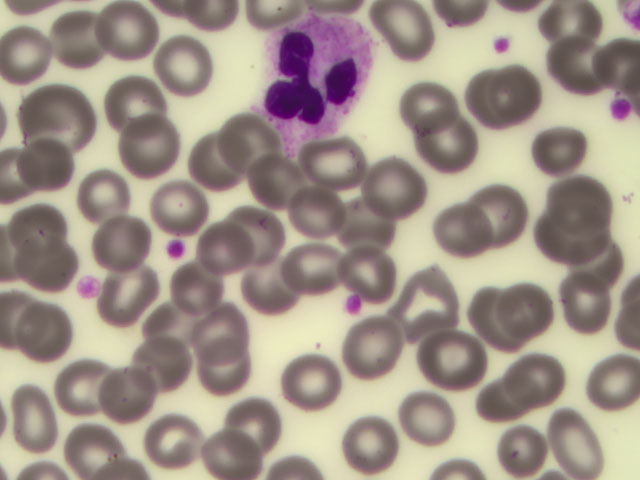Platelets: (606, 94, 630, 123), (72, 276, 101, 300), (163, 240, 192, 263), (489, 35, 515, 52), (342, 294, 366, 310)
RBC: (1, 25, 59, 84), (48, 14, 106, 73), (153, 34, 211, 93), (106, 66, 164, 125), (115, 122, 173, 181), (16, 136, 74, 195), (28, 87, 86, 146), (70, 160, 128, 219), (7, 186, 65, 245), (18, 227, 76, 286), (94, 214, 152, 273), (109, 265, 167, 324), (147, 179, 205, 238), (182, 135, 240, 194), (212, 112, 270, 171), (247, 150, 305, 209), (281, 177, 339, 236), (304, 129, 362, 188), (361, 150, 419, 209), (337, 193, 395, 252), (345, 233, 403, 292), (280, 237, 338, 296), (249, 258, 307, 317), (230, 206, 288, 265), (197, 220, 255, 279), (173, 271, 231, 330), (152, 294, 210, 353), (193, 296, 251, 355), (196, 351, 254, 410), (137, 337, 195, 396), (102, 371, 160, 430), (63, 361, 121, 420), (4, 391, 62, 450), (66, 418, 124, 477), (143, 409, 201, 468), (202, 421, 260, 480), (222, 394, 280, 453), (284, 352, 342, 411), (341, 318, 399, 377), (395, 274, 453, 333), (425, 328, 483, 387), (395, 389, 453, 448), (336, 421, 394, 480), (476, 370, 534, 429), (502, 349, 560, 408), (506, 280, 564, 339), (467, 283, 525, 342), (434, 203, 492, 262), (470, 181, 528, 240), (422, 119, 480, 178), (396, 75, 454, 134), (452, 60, 510, 119), (489, 60, 547, 119), (540, 31, 598, 90), (544, 11, 602, 70), (385, 2, 443, 61), (534, 126, 592, 185), (558, 161, 616, 220), (540, 202, 598, 261), (581, 240, 639, 299), (559, 280, 617, 339), (582, 364, 640, 423), (546, 416, 604, 475), (491, 421, 549, 480), (88, 1, 146, 59)
WBC: (258, 14, 375, 142)
